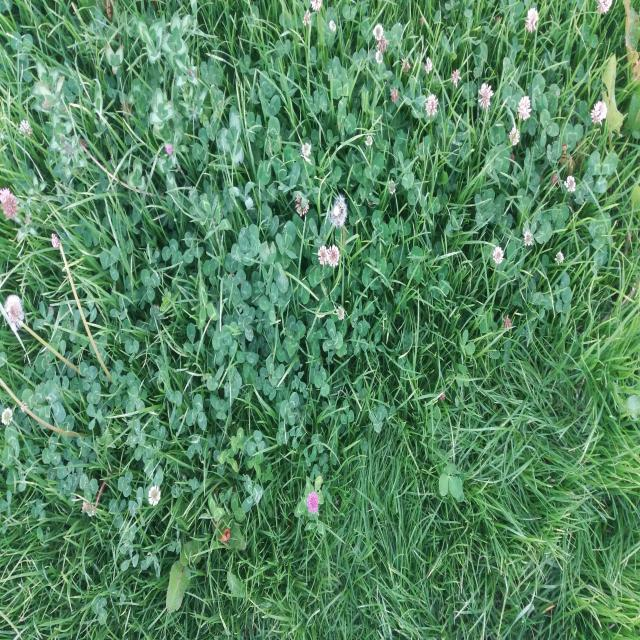Four Leaf Clover: (239, 224, 261, 263)
